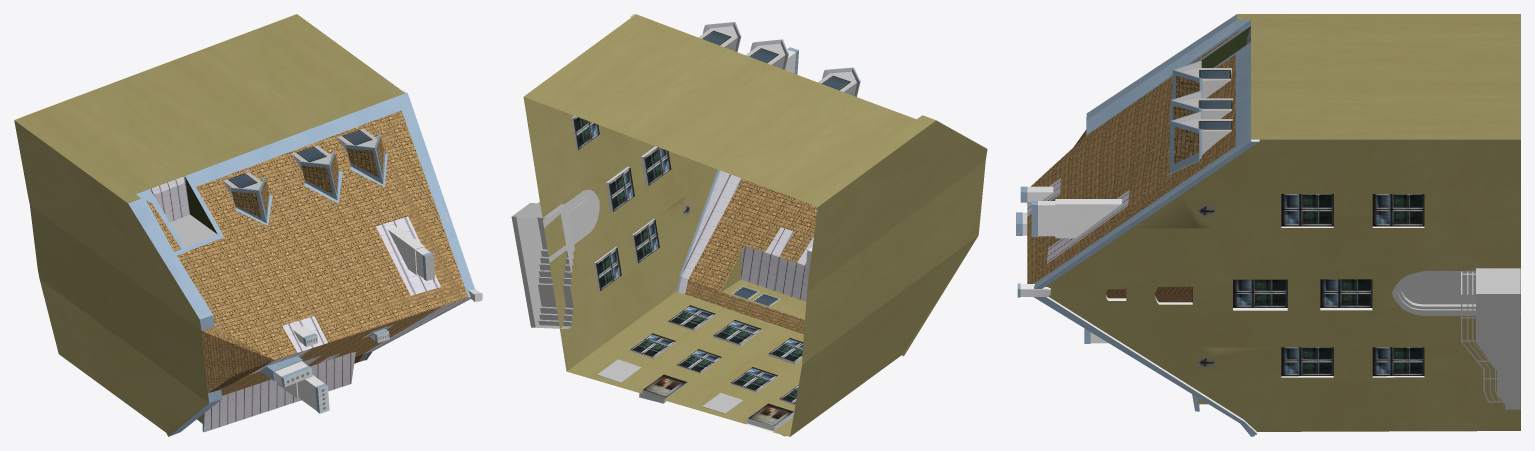
Rendered from Apteegi_3.obj.
3 views of the same model, side by side, from view 1: azimuth 30°, elevation 25°; view 2: azimuth 150°, elevation 25°; view 3: azimuth 270°, elevation 25° (orthographic). The views are drawn at different scales.
Visible parts, largest first — view 1: Apteegi_3; view 2: Apteegi_3; view 3: Apteegi_3.
Part boxes in pixels (x1,y1,x2,y2): Apteegi_3: [14, 14, 482, 436]; Apteegi_3: [511, 14, 987, 436]; Apteegi_3: [1016, 14, 1520, 436].
Size of the model in its own units: 17.92 by 16.04 by 21.36.
